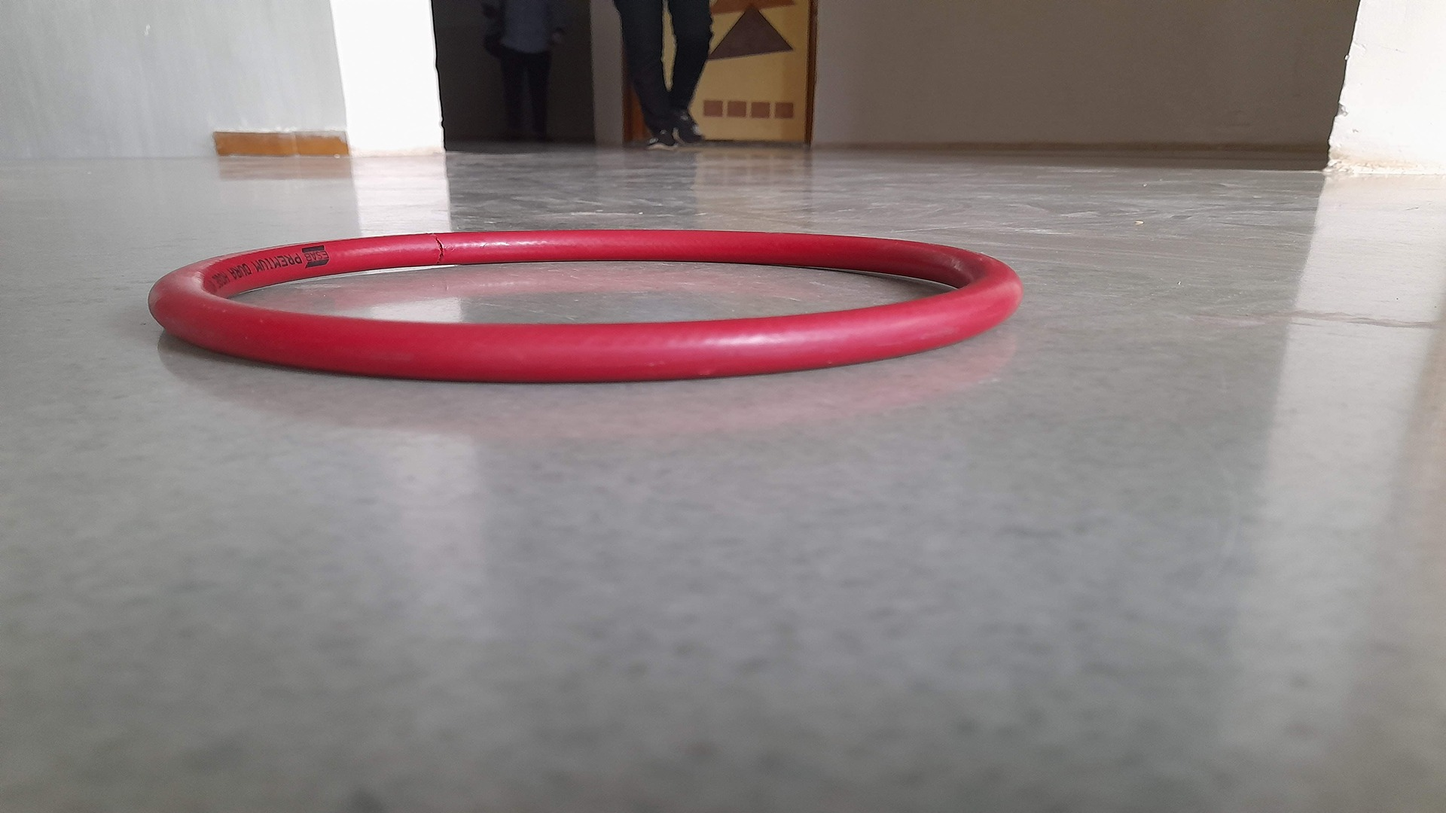Red ring: (149, 229, 1023, 377)
